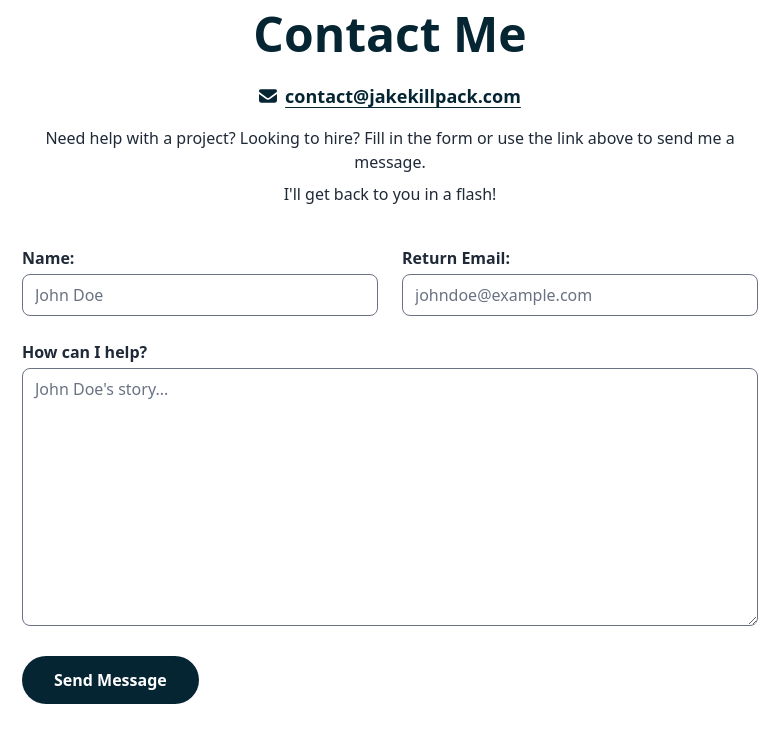
Scenario: ContactMe › ties each field error to its field and keeps what was typed
In the field labelled "Name:": (200,295) x1=22 y1=274 x2=378 y2=316, type "Ada Lovelace"
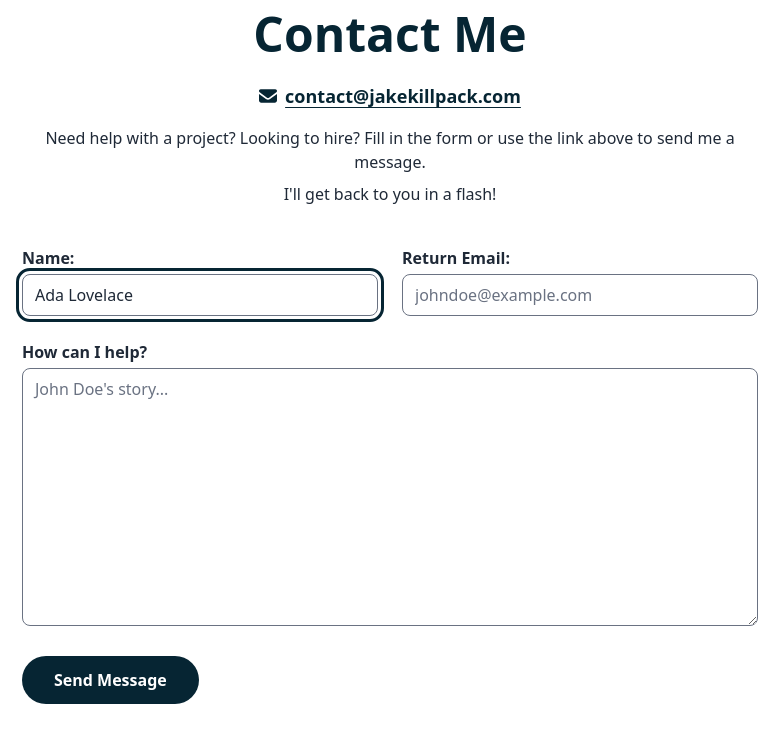
In the field labelled "Return Email:": (580,295) x1=402 y1=274 x2=758 y2=316, type "ada@example.com"
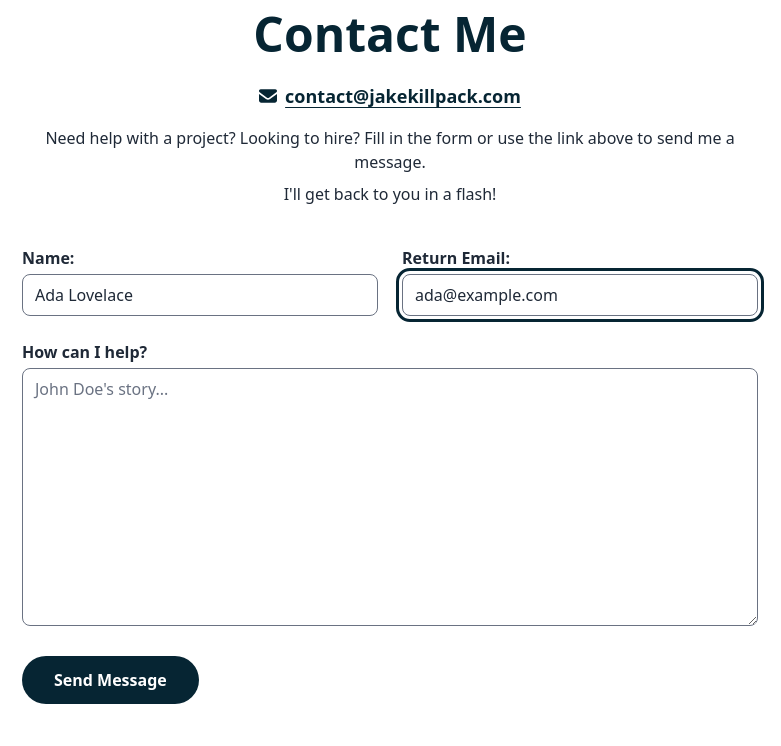
In the text box labelled "How can I help?": (390,497) x1=22 y1=368 x2=758 y2=626, type "Hello there"
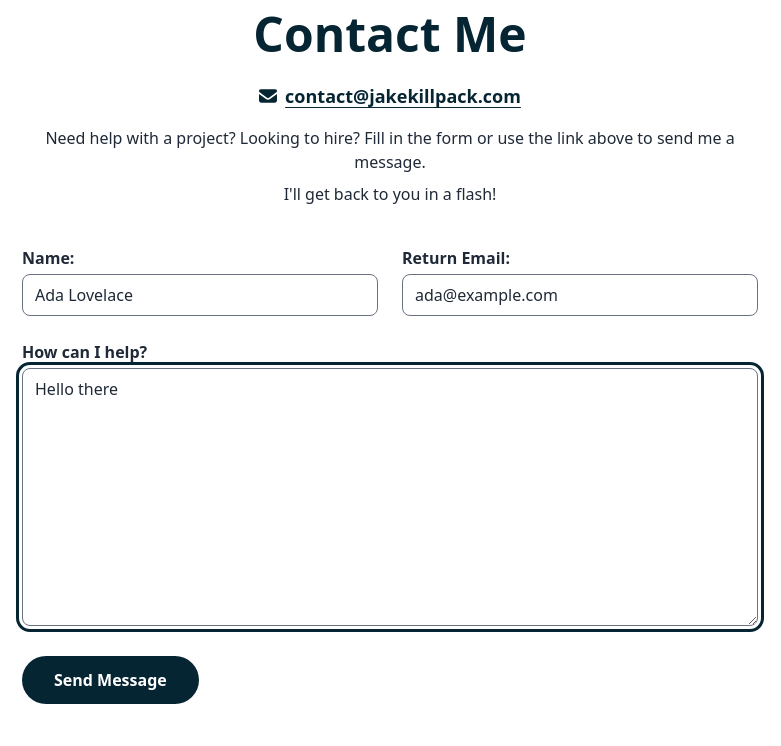
Click the button "Send Message": (110,680) x1=22 y1=656 x2=199 y2=704
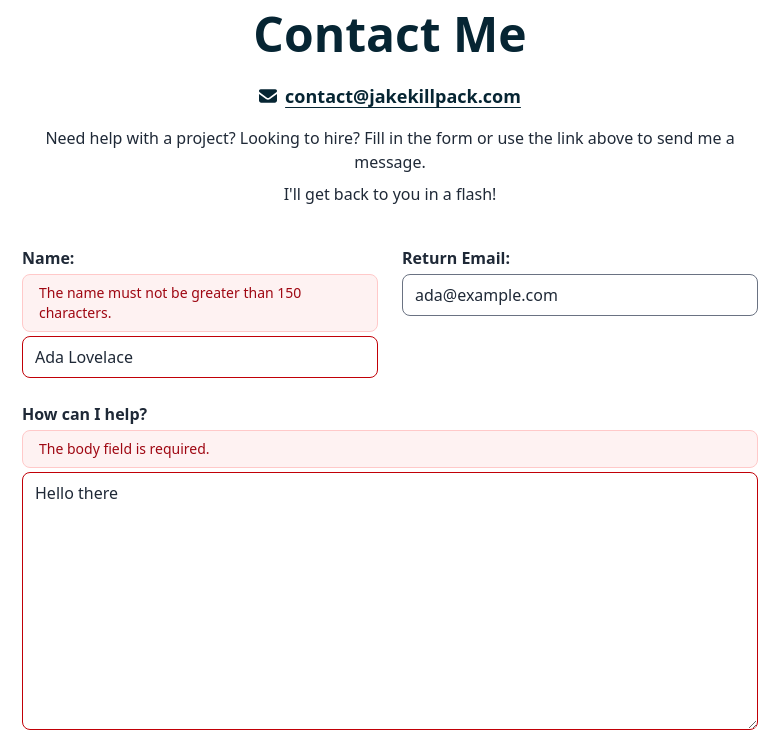
Expected: the list item "The name must not be greater than 150 characters." is shown, x1=39 y1=283 x2=301 y2=322
